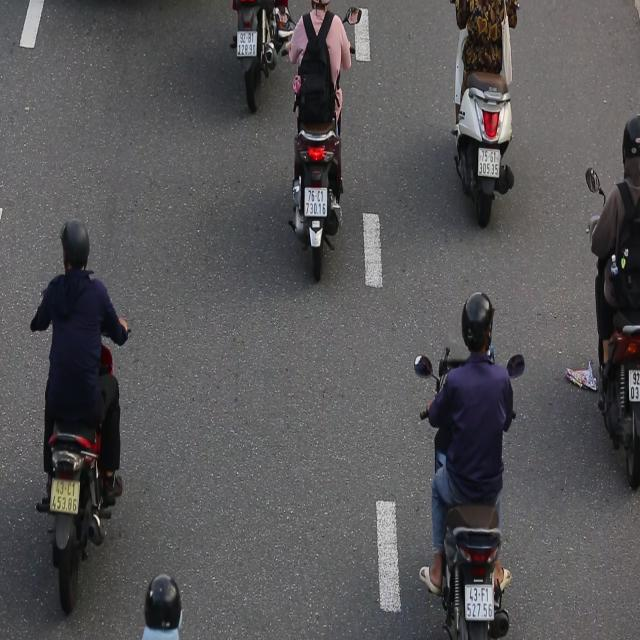motorbike: (17, 215, 128, 627), (414, 278, 531, 640)
